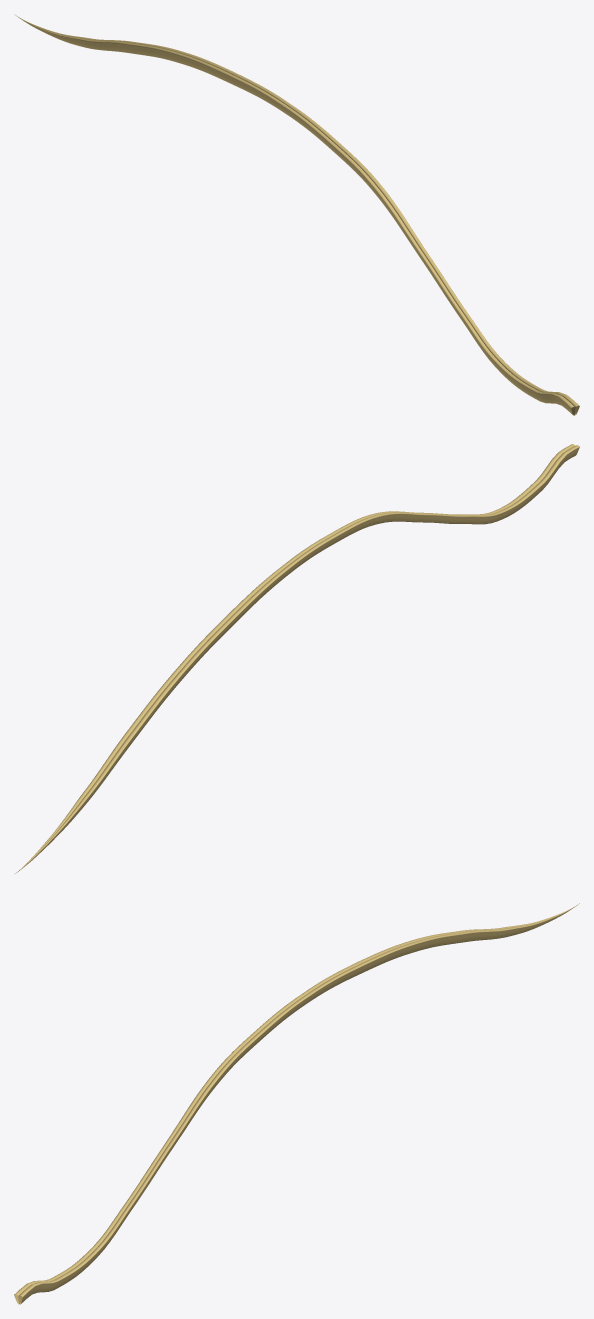
The picture shows the model from 3 angles, top to bottom: view 1: azimuth 30°, elevation 25°; view 2: azimuth 150°, elevation 25°; view 3: azimuth 330°, elevation 25°; orthographic projection.
Visible parts, largest first — view 1: 薄束; view 2: 薄束; view 3: 薄束.
Part boxes in pixels (bbox=[...]): 薄束: bbox=[14, 14, 579, 415]; 薄束: bbox=[14, 444, 579, 874]; 薄束: bbox=[14, 903, 579, 1304].
Size of the model in its own units: 0.00644 by 0.0806 by 0.7227.
